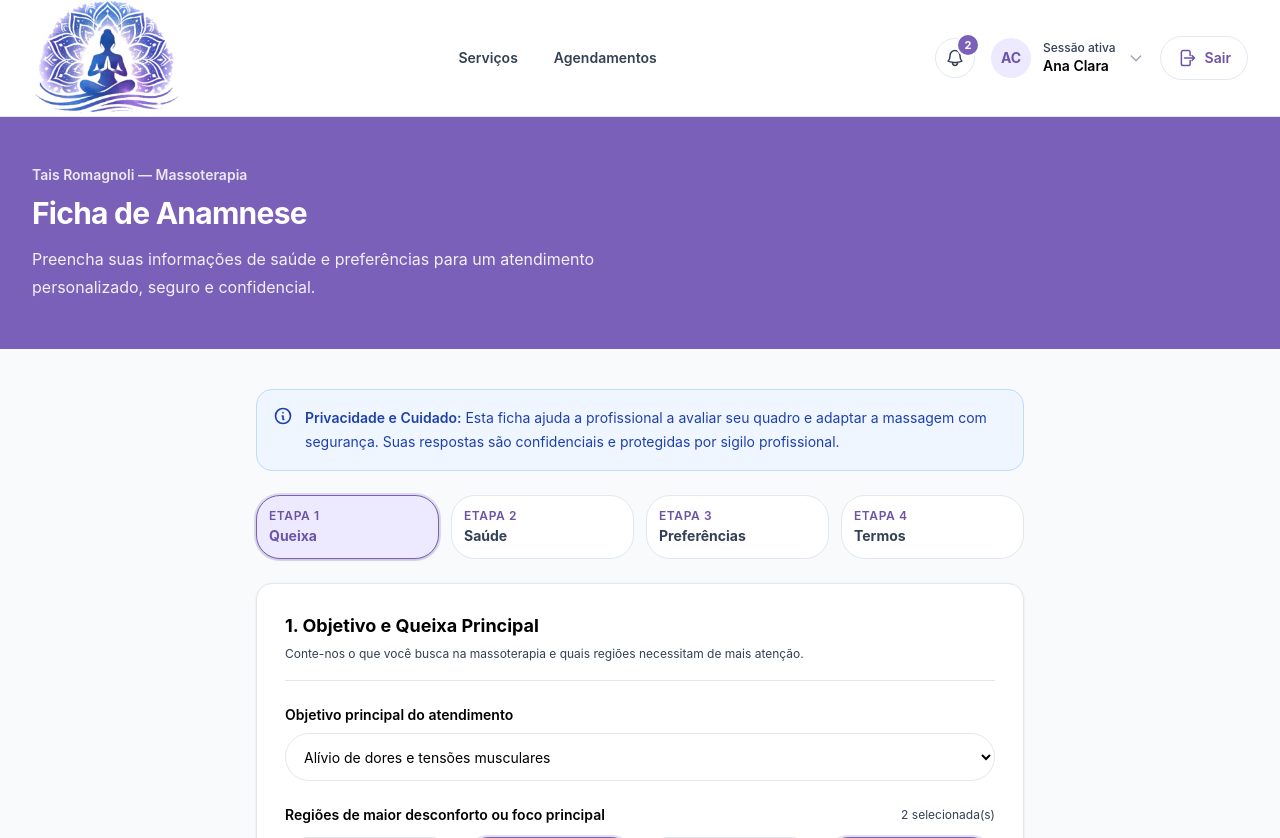
Scenario: FichaAnamnesePage › valida o formulário exigindo o aceite do termo de consentimento
// Vai para a etapa 4 (consentimento)
Click the button "Etapa 4 Termos". click: (932, 527)
box: [841, 495, 1024, 559]
(page scrolled)
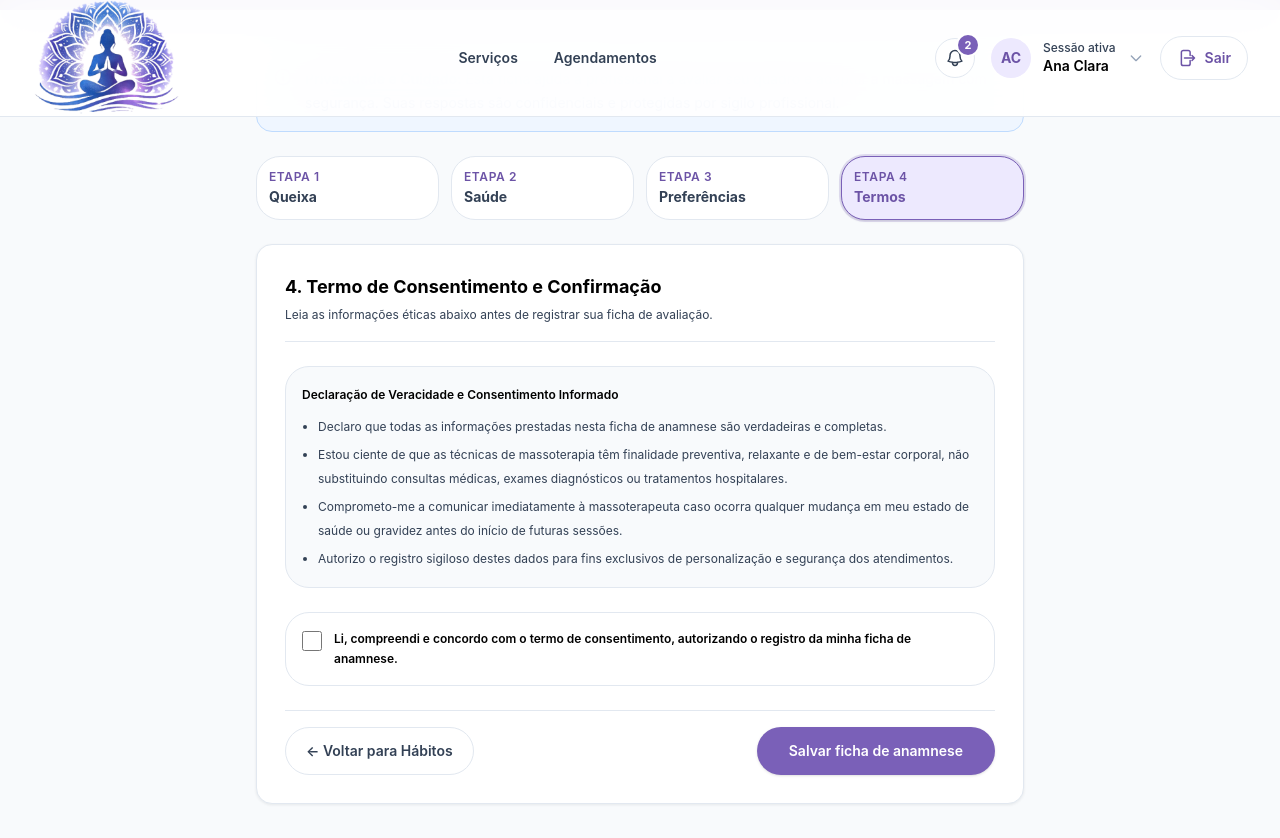
// Tenta submeter sem marcar o consentimento
Click the button "Salvar ficha de anamnese". click: (876, 751)
box: [757, 727, 995, 775]
(page scrolled)
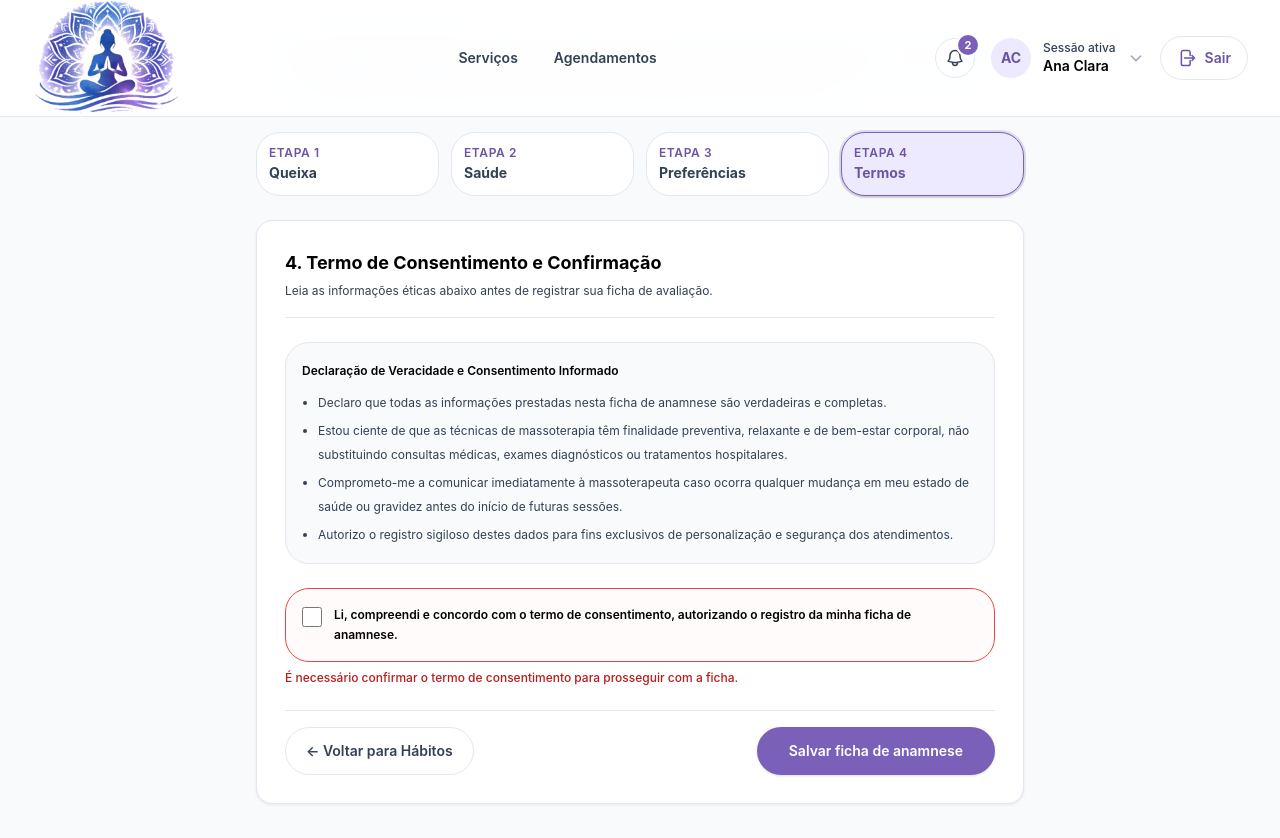
Result: the text "É necessário confirmar o termo de consentimento para prosseguir com a ficha." is shown at [285, 670, 738, 685]
